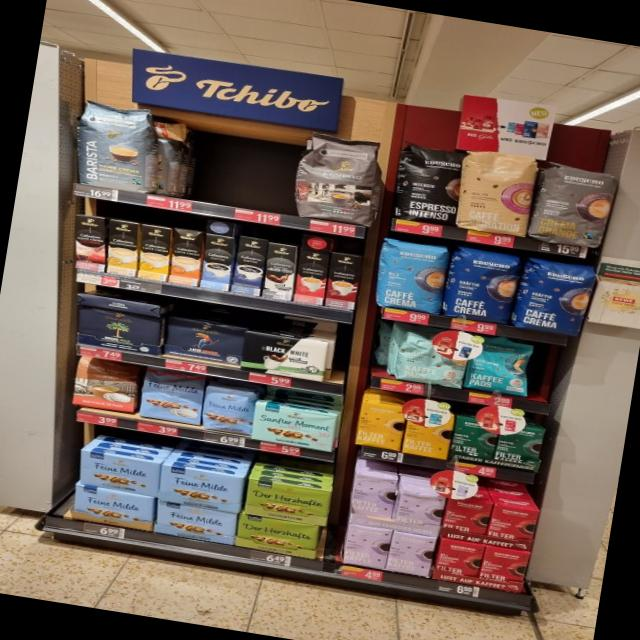BM Gemahlen: (73, 305, 166, 356)
BW Gemahlen: (239, 328, 330, 383)
Barista CC: (73, 94, 165, 197)
CC Vollmundig: (64, 354, 146, 417)
Empty Shelf: (160, 109, 297, 215)
Espresso Aromatisch: (291, 129, 392, 228)
FM 36 Pads: (135, 366, 209, 429)
FM Bohne: (199, 382, 260, 436)
FM Gemahlen: (68, 483, 158, 534), (77, 448, 162, 498), (151, 499, 240, 546), (158, 466, 244, 513)
Herzhatfe Mundig: (242, 476, 335, 529), (234, 513, 321, 560)
LG Gemahlen: (163, 313, 247, 366)
SM Gemahlen: (251, 401, 342, 455)
Simo CC Colombia: (73, 214, 108, 273)
Simo CCMild bigpack: (136, 225, 173, 282)
Simo CCVollmundig bigpack: (166, 227, 205, 288)
Simo Decaff: (106, 219, 141, 277)
Simo Es Brazil: (291, 247, 332, 305)
Simo Es Caramel: (324, 252, 363, 310)
Simo Es Elegant: (259, 241, 300, 302)
Simo Es Kraft: (230, 235, 269, 296)
Simo Es Vanilla: (199, 234, 237, 292)
